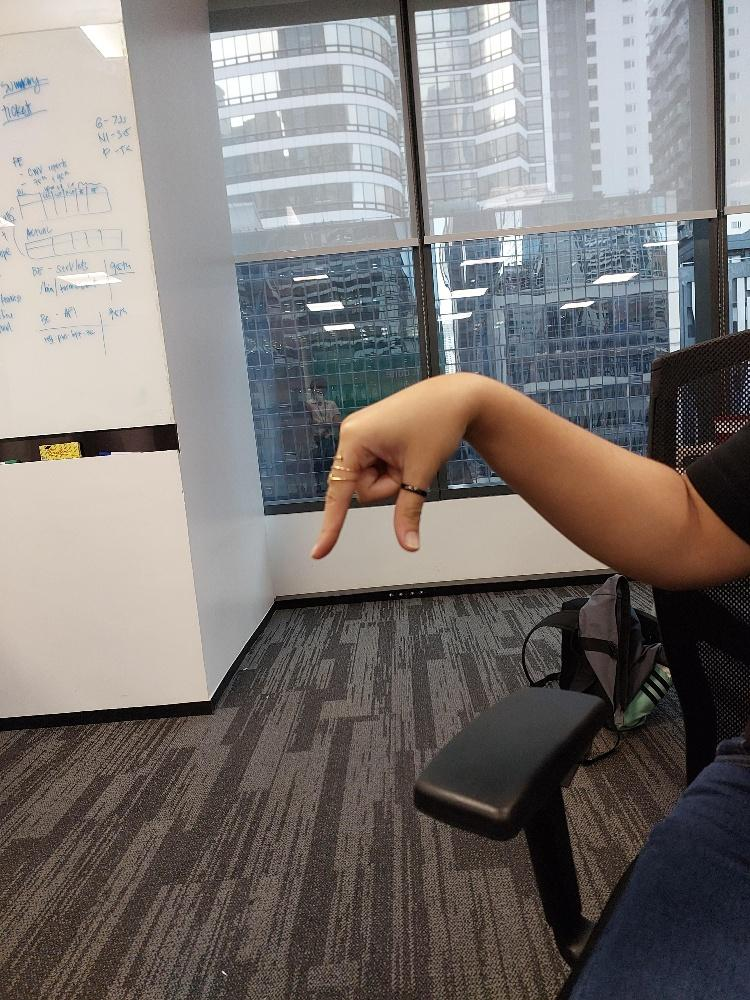q: (306, 368, 496, 563)
